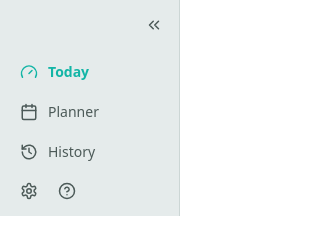
Test: Nav › the question mark opens Help, About and Check for updates
The image size is (320, 233).
Click the button named "Help and about" at (67, 191), box [50,174,84,208]
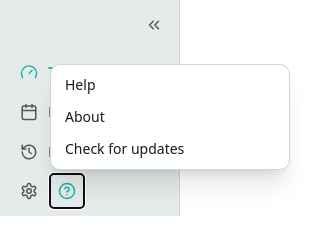
Result: the button named "Help and about" is expanded at [50,174,84,208]
Press Escape
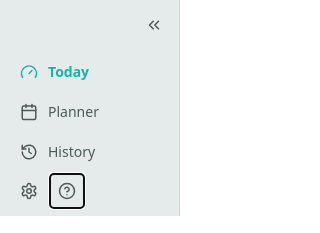
Result: the menu is gone
